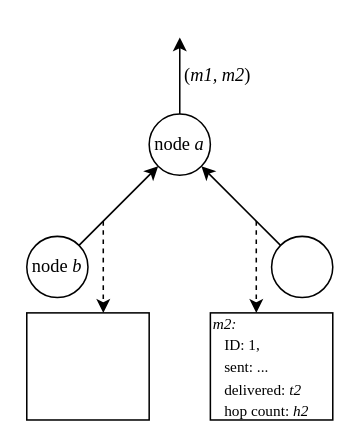
Some shapes in this 360 by 448 pixel diagram are drawn without their labels. The shapes that lost their labels are listed below. From the top down, each one's centre as x and y in pixels, then its label:
point 301,266: node c
point 87,365: m1: ID: 1, sent: ... delivered: t1 hop count: h1
